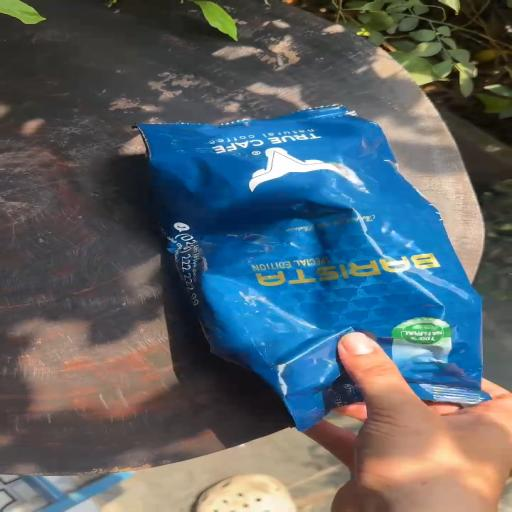cafe_hat: (138, 105, 487, 430)
